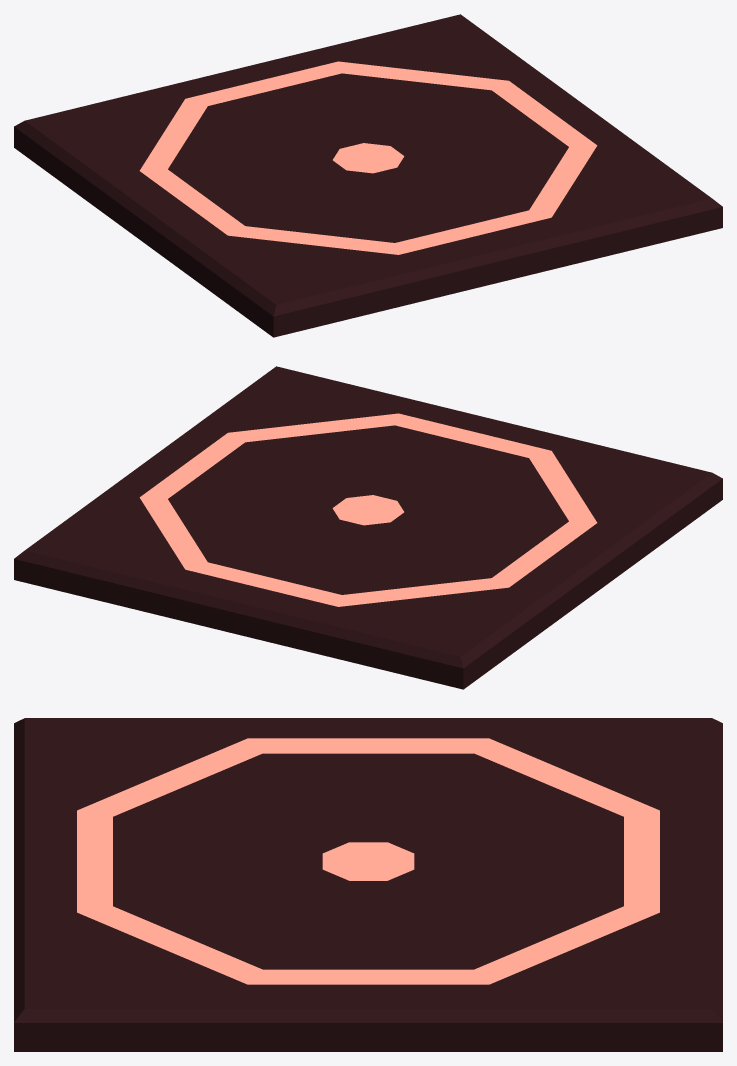
The model's file is floor_nightmare.glb.
The picture shows the model from 3 angles, top to bottom: view 1: azimuth 30°, elevation 25°; view 2: azimuth 150°, elevation 25°; view 3: azimuth 270°, elevation 25°; orthographic projection. The views are drawn at different scales.
Parts seen in each view (by area): view 1: Mesh; view 2: Mesh; view 3: Mesh.
Boxes of the visible parts, box(x1,y1,x2,y2) form: Mesh: box(14, 14, 722, 337); Mesh: box(14, 366, 722, 689); Mesh: box(14, 718, 722, 1051).
Size of the model in its own units: 2 by 0.126 by 2.
